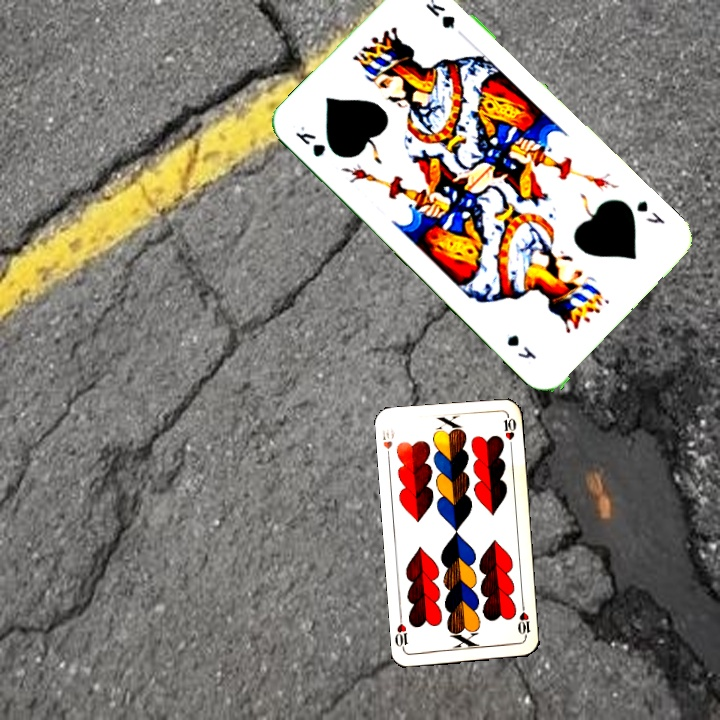GK: (291, 121, 328, 160), (632, 196, 668, 227)
H10: (513, 601, 533, 642), (378, 426, 395, 463)
